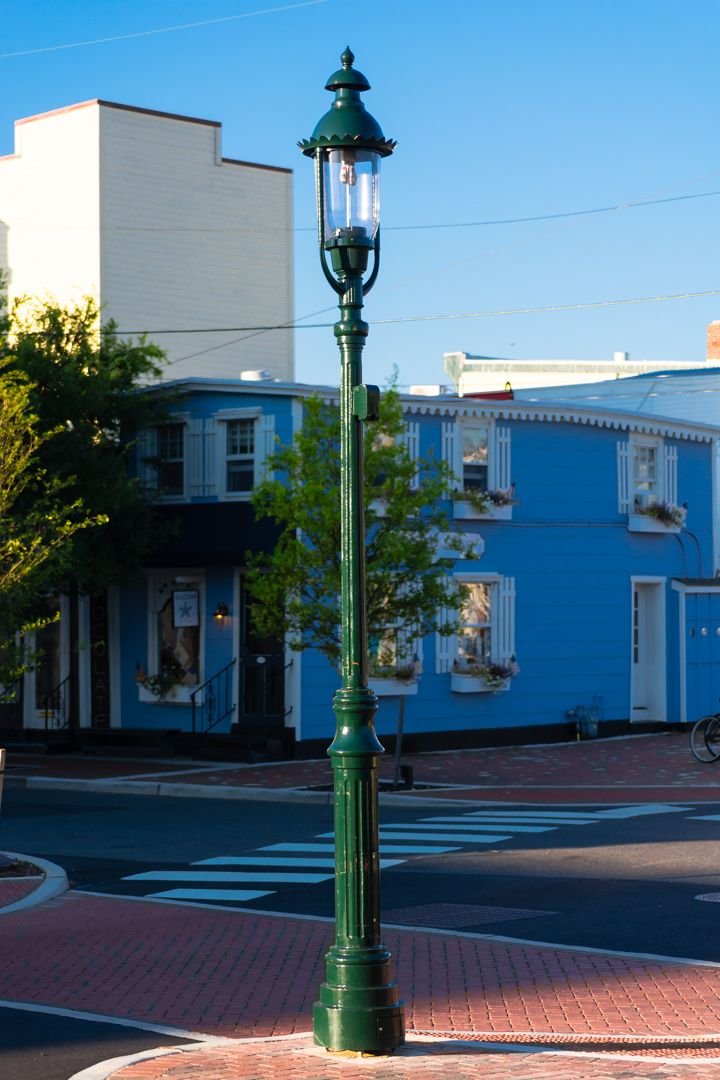pole: (282, 37, 417, 1063)
